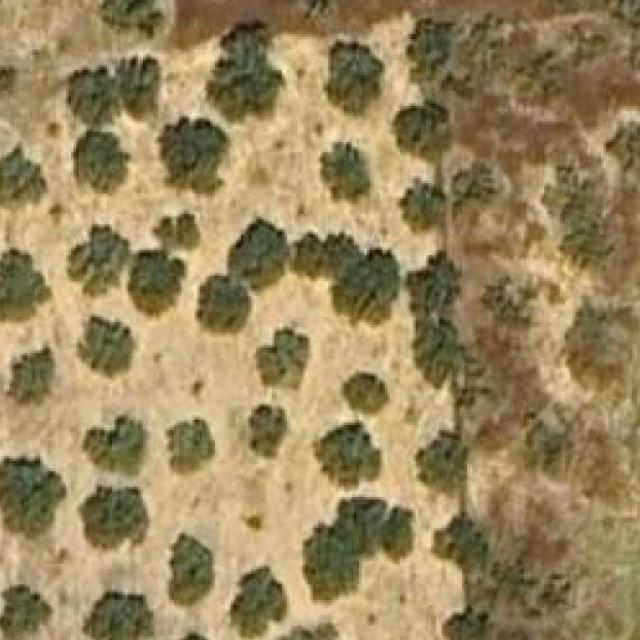Tree: (302, 495, 413, 601), (207, 20, 284, 121), (328, 245, 400, 327), (0, 456, 66, 541), (309, 420, 382, 492), (323, 41, 385, 122), (406, 312, 472, 388), (224, 217, 289, 294), (66, 228, 133, 300), (227, 567, 284, 639), (80, 487, 145, 548), (164, 118, 220, 188), (0, 248, 51, 323), (287, 229, 359, 281), (68, 132, 127, 194), (83, 415, 145, 474), (253, 327, 310, 389), (76, 315, 133, 376), (128, 253, 184, 315), (118, 54, 167, 124), (195, 274, 251, 335), (85, 591, 154, 640), (452, 162, 503, 228), (320, 142, 371, 207), (410, 250, 462, 311), (168, 533, 212, 605), (394, 104, 449, 160), (522, 422, 575, 480), (0, 584, 53, 639), (166, 417, 215, 476), (407, 19, 454, 80), (6, 348, 53, 409), (68, 63, 115, 124), (0, 147, 46, 206), (98, 0, 166, 37), (425, 430, 469, 487), (447, 512, 488, 567), (397, 186, 444, 233), (341, 374, 390, 414), (150, 211, 200, 250), (443, 605, 495, 640), (248, 406, 284, 456), (277, 622, 339, 640), (594, 0, 640, 20), (298, 0, 337, 16), (0, 68, 17, 99)
